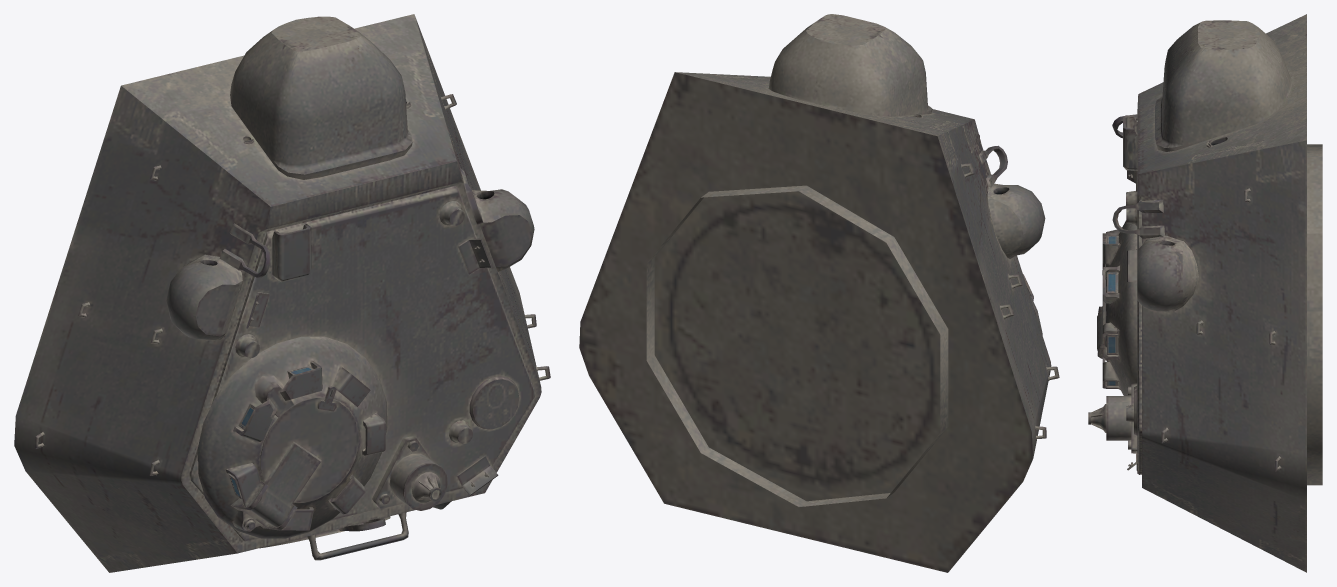
Rendered from Turret_02.glb.
3 views of the same model, side by side, from view 1: azimuth 30°, elevation 25°; view 2: azimuth 150°, elevation 25°; view 3: azimuth 270°, elevation 25° (orthographic). The views are drawn at different scales.
Parts seen in each view (by area): view 1: set_0_group_0; view 2: set_0_group_0; view 3: set_0_group_0.
Boxes of the visible parts, x1,y1,x2,y2 form: set_0_group_0: (14,14,550,572); set_0_group_0: (579,14,1059,572); set_0_group_0: (1088,14,1322,572).
Size of the model in its own units: 2.59 by 2.61 by 1.18.
Materials: 1 (1 with a texture image).
